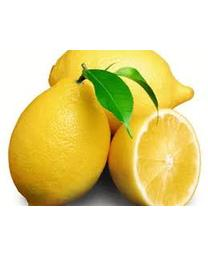lemon: (8, 80, 109, 203), (108, 107, 202, 205)
